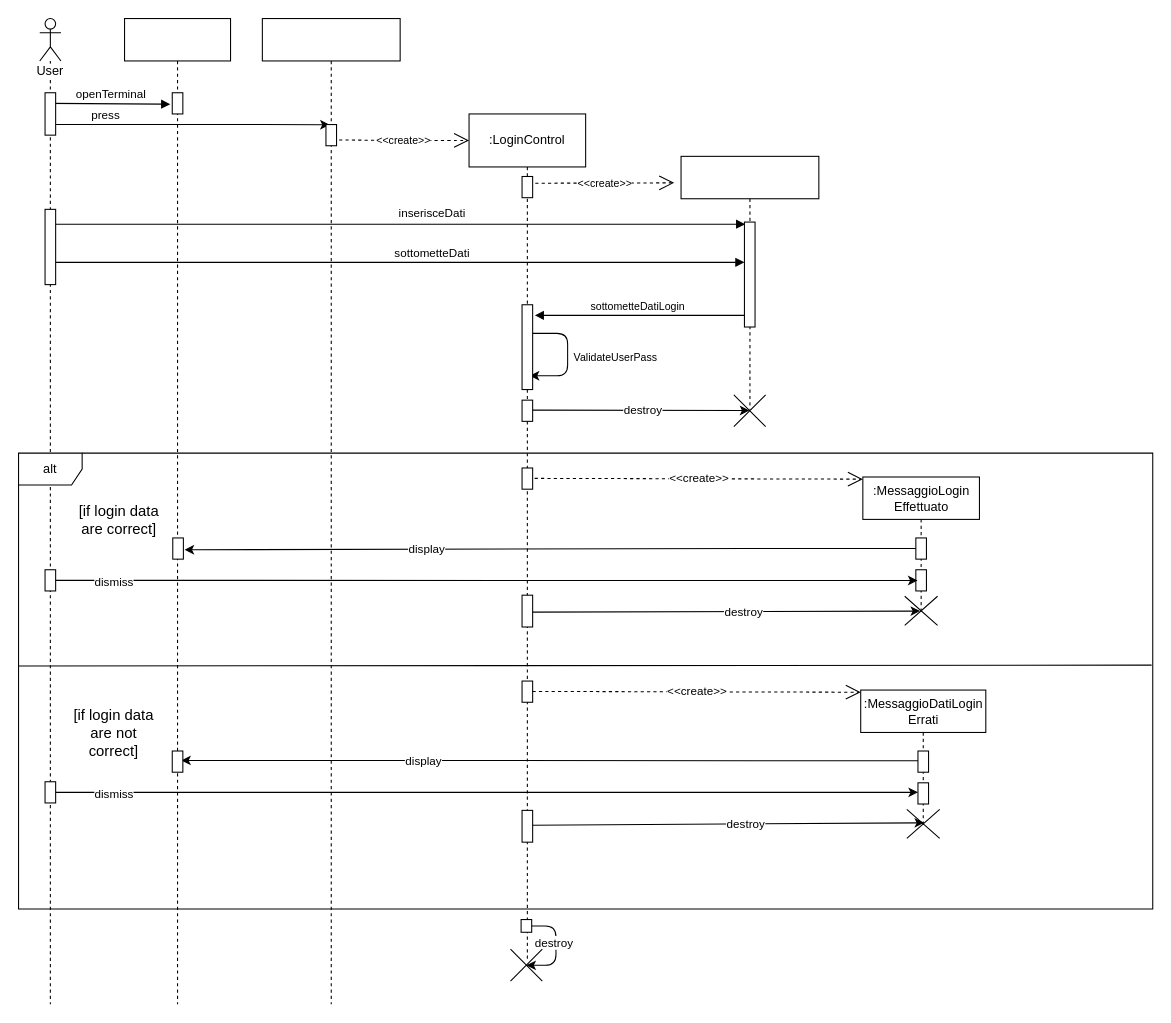
The diagram is 1171 pixels wide and 1023 high, and some of its shapes have lost their labels. The shapes that lost their labels are listed below. From the top down, each one's box as (x1, y1, x2, y2) in pixels, then its label:
(680, 155, 819, 410): :LoginForm
(123, 17, 231, 1004): :Terminale User
(261, 17, 400, 1004): :LoginButton
